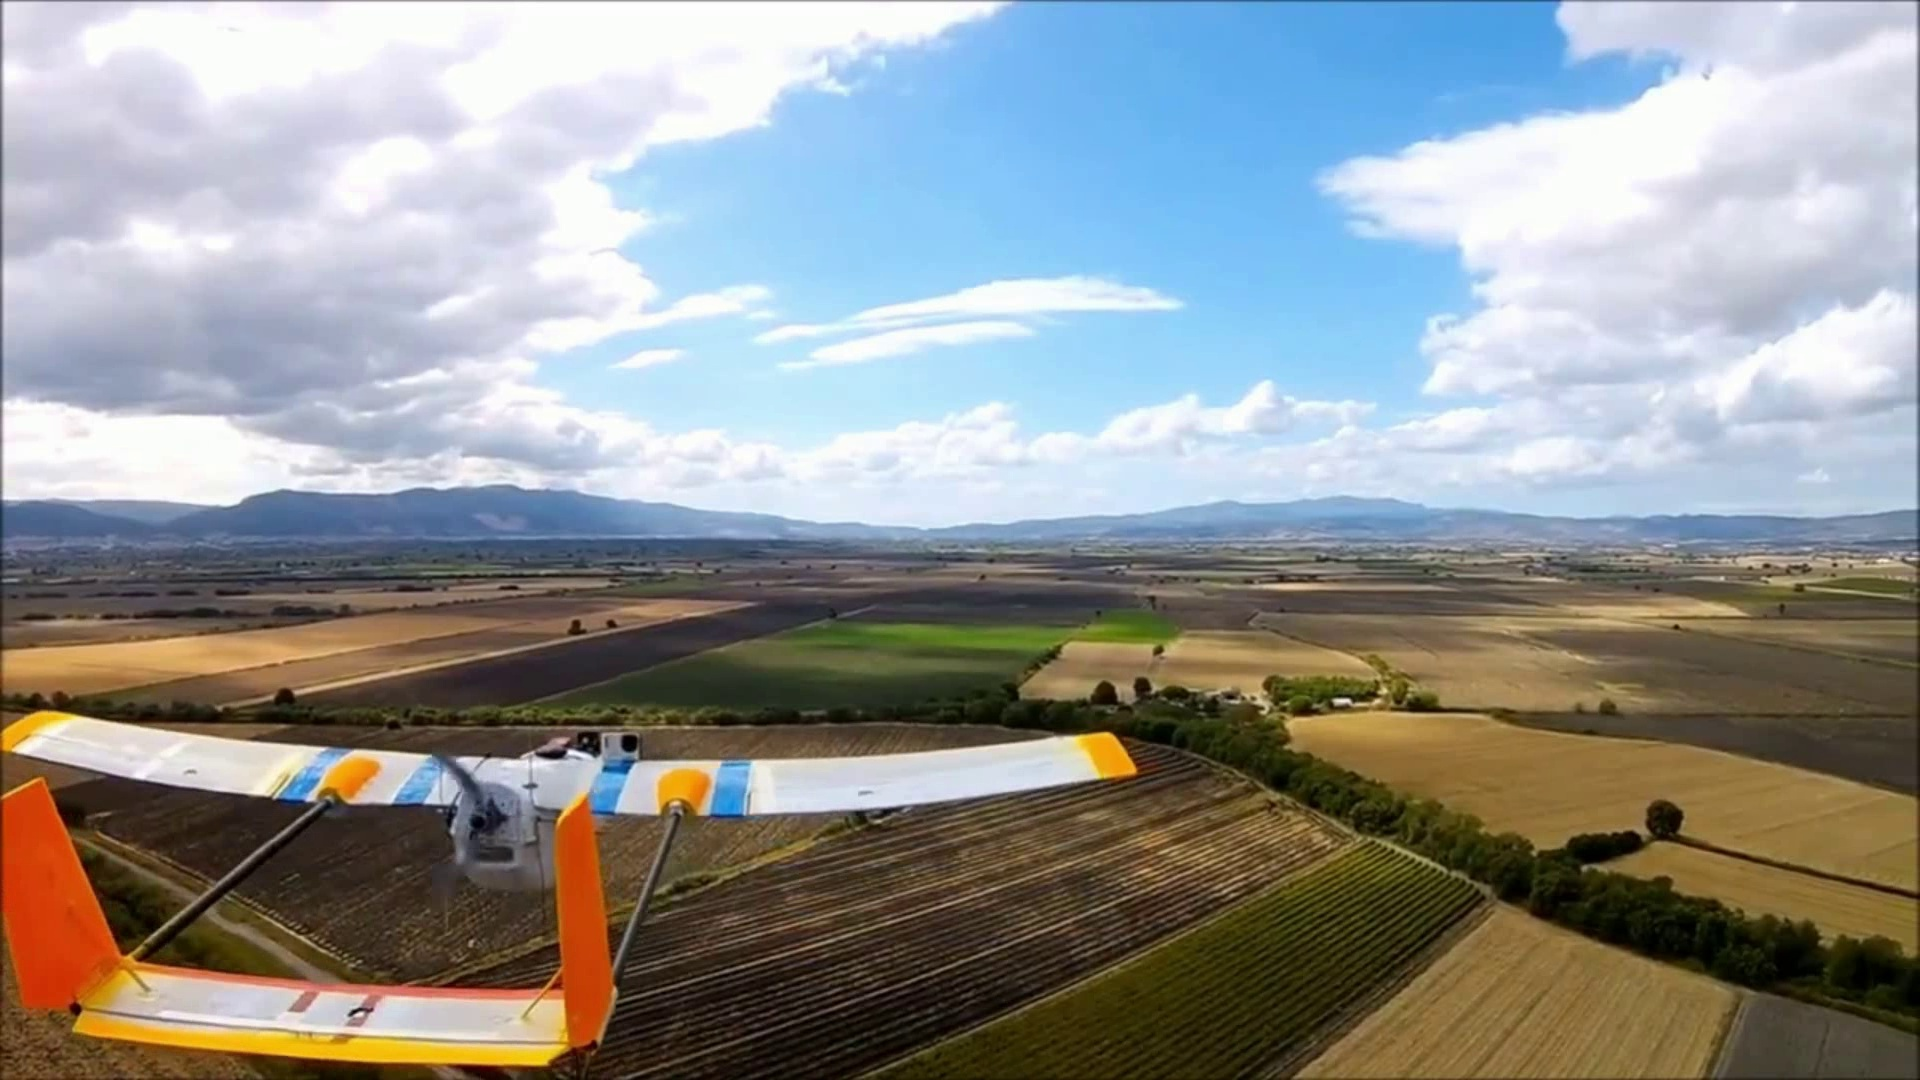airplane: (4, 721, 1143, 1069)
